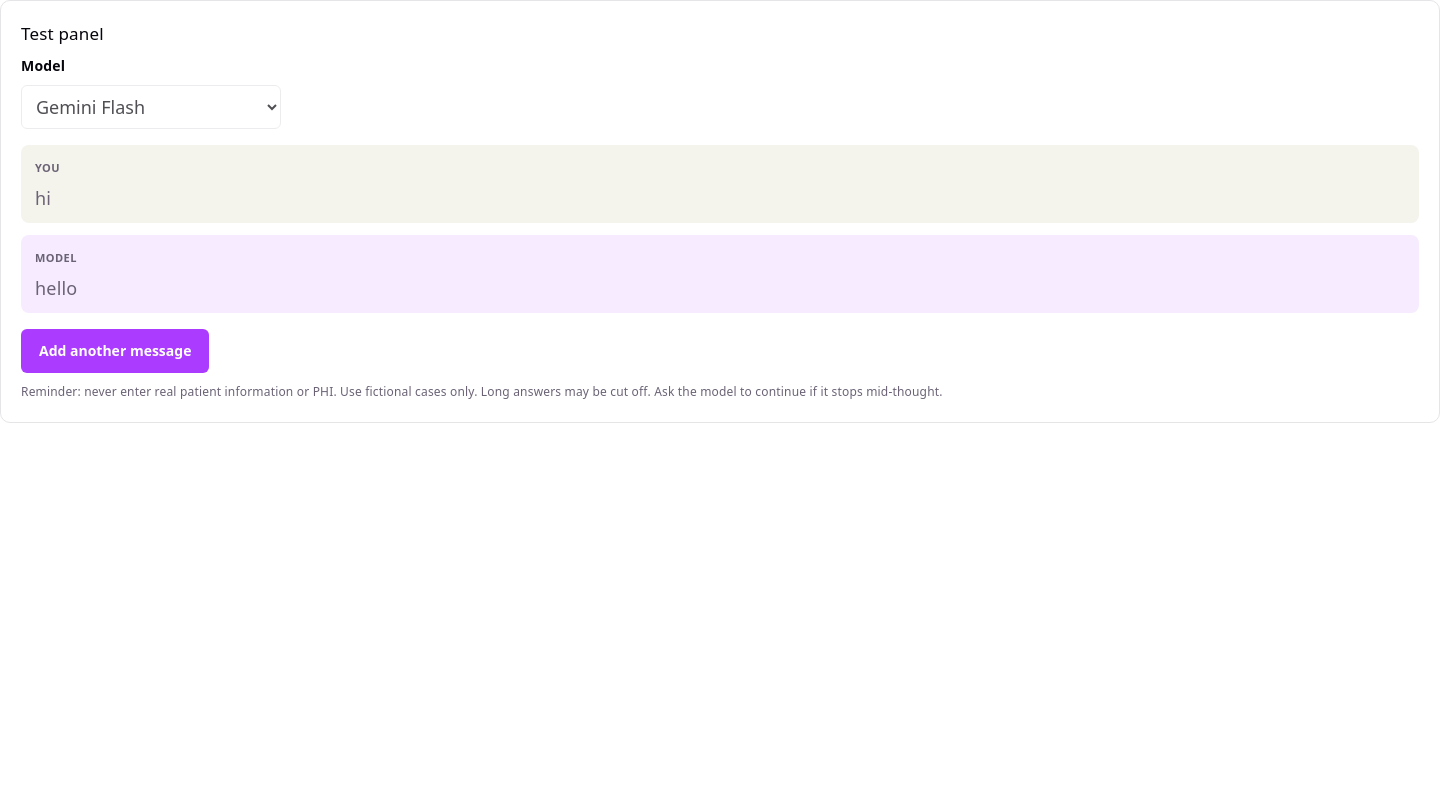
Test case: ChatPanel — composer reveal on demand › reveals the message box again when 'Add another message' is clicked
Click the button "Add another message".
click(115, 351)  # box [21, 329, 209, 373]
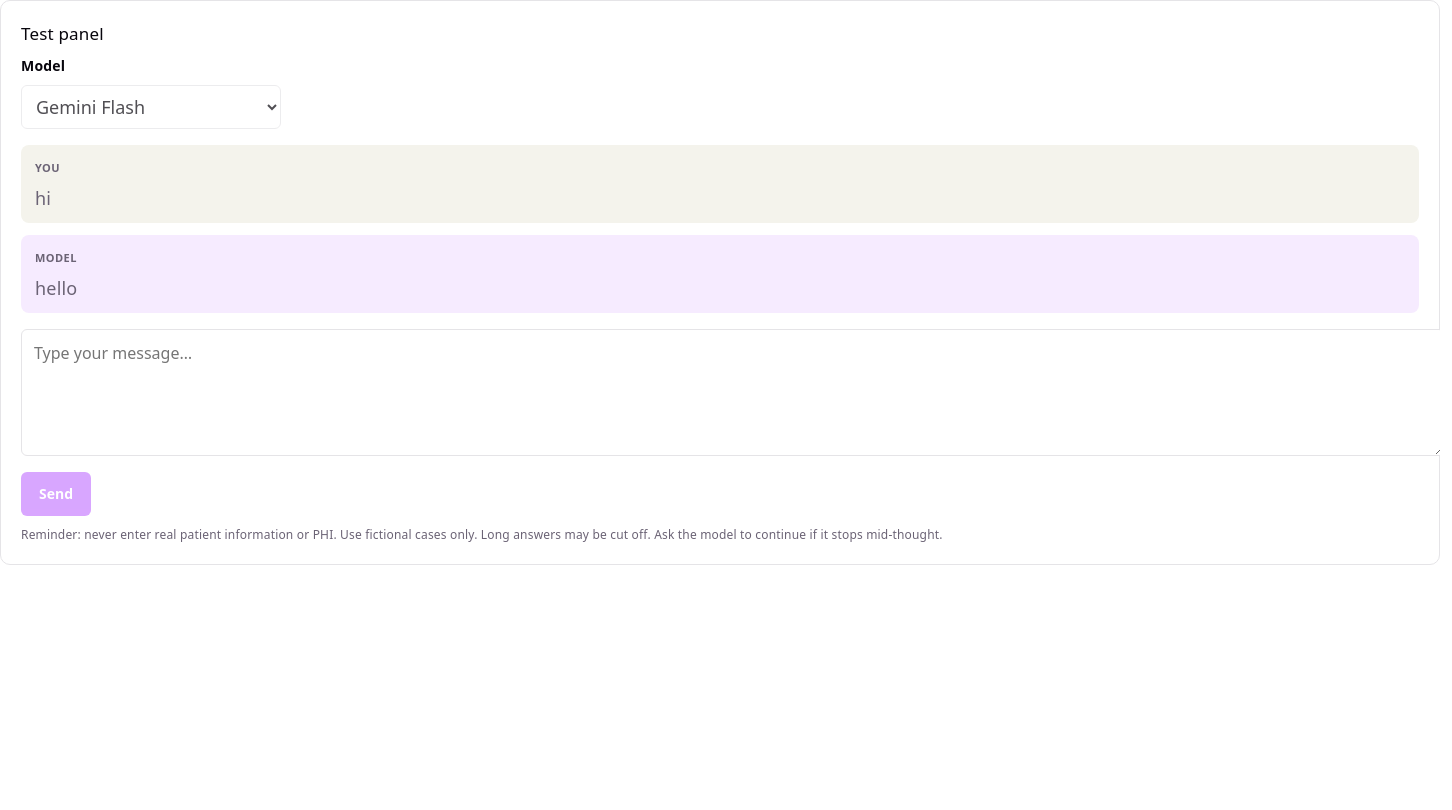
Expected: the button "Add another message" is gone
